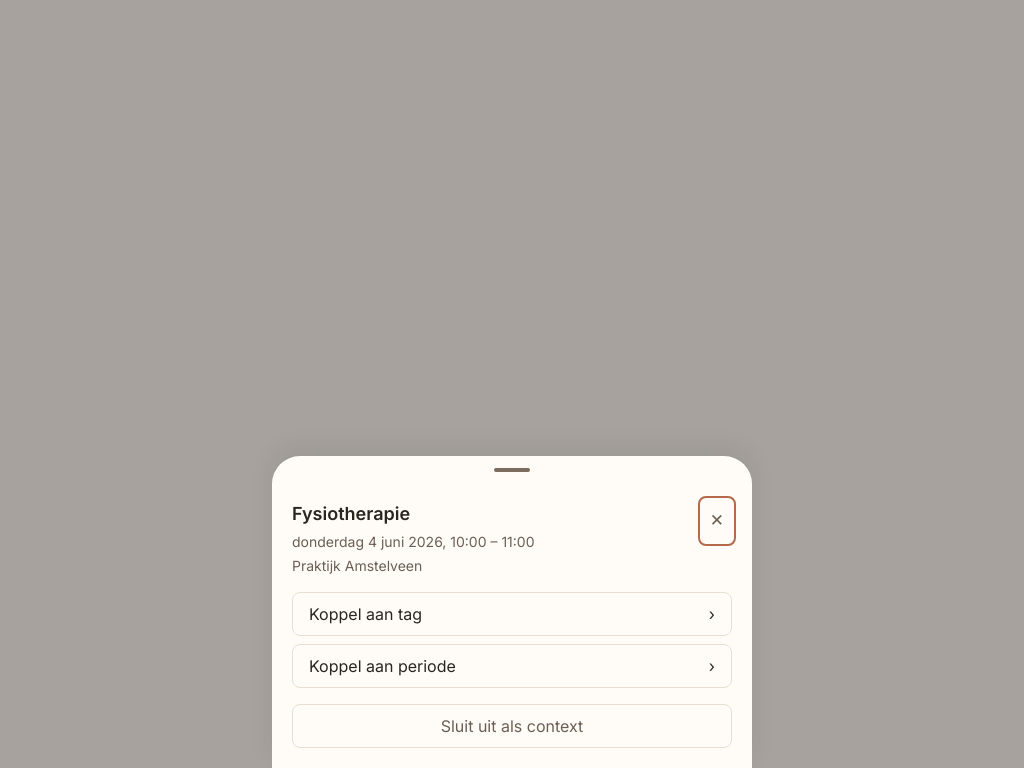
CalendarEventSheet › tag picker › opens the tag picker on "Koppel aan tag" click
Click the button "Koppel aan tag ›".
click(366, 614)  # box x1=292 y1=592 x2=732 y2=636
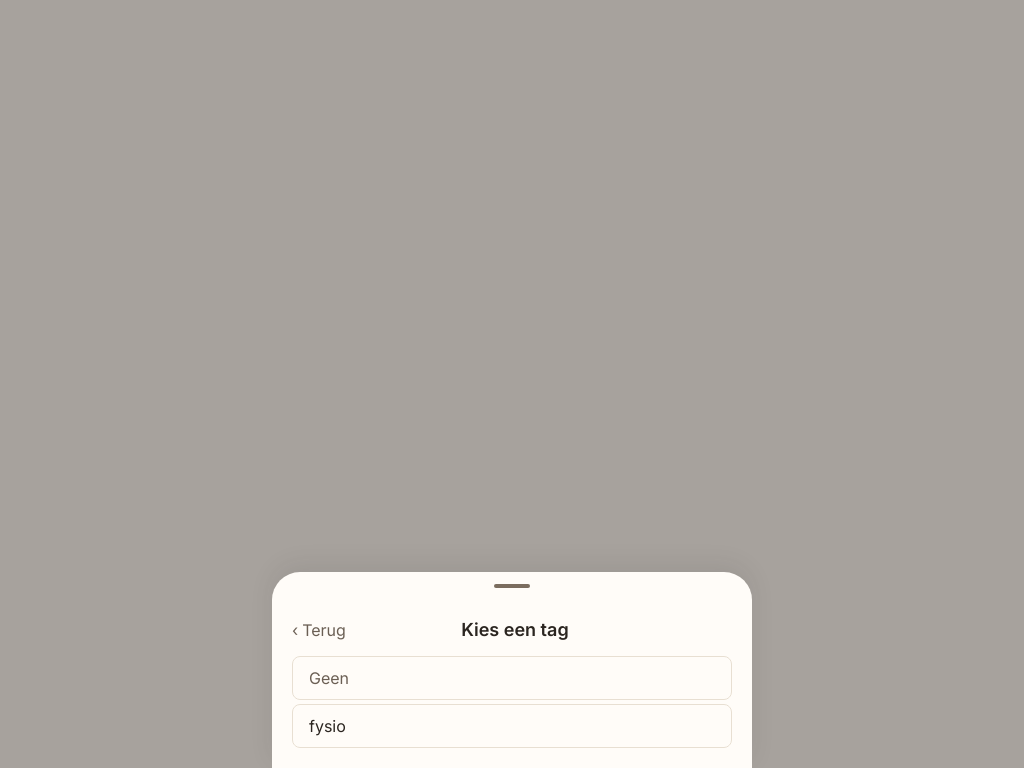
Expected: the heading "Kies een tag" is shown, x1=461 y1=616 x2=569 y2=644
Expected: the button "fysio" is shown, x1=292 y1=704 x2=732 y2=748
Expected: the button "Geen" is shown, x1=292 y1=656 x2=732 y2=700
